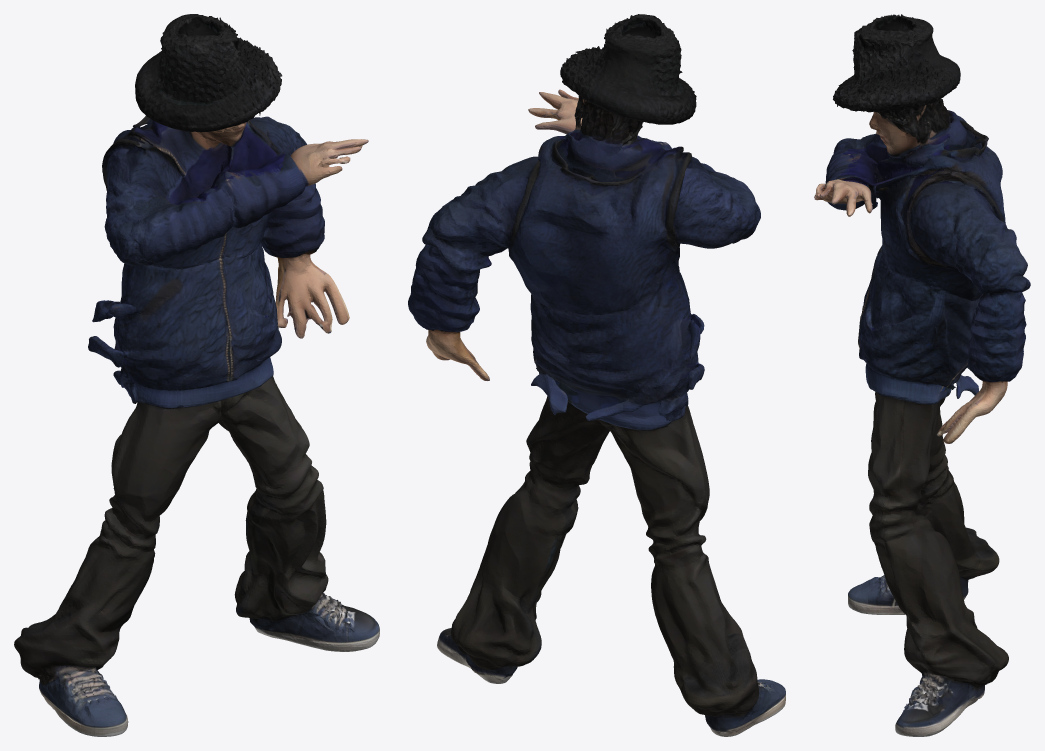
The model's file is The_Dancer_in_the_Cub_0624111441_texture.fbx.
3 views of the same model, side by side, from view 1: azimuth 30°, elevation 25°; view 2: azimuth 150°, elevation 25°; view 3: azimuth 270°, elevation 25° (orthographic). The views are drawn at different scales.
Visible parts, largest first — view 1: temp; view 2: temp; view 3: temp.
Boxes of the visible parts, x1=… form: temp: x1=14, y1=14, x2=379, y2=736; temp: x1=408, y1=14, x2=785, y2=736; temp: x1=814, y1=14, x2=1030, y2=736.
Bounding box in the file's own units: 105 × 199 × 61.68.
1 material, 1 textured.
